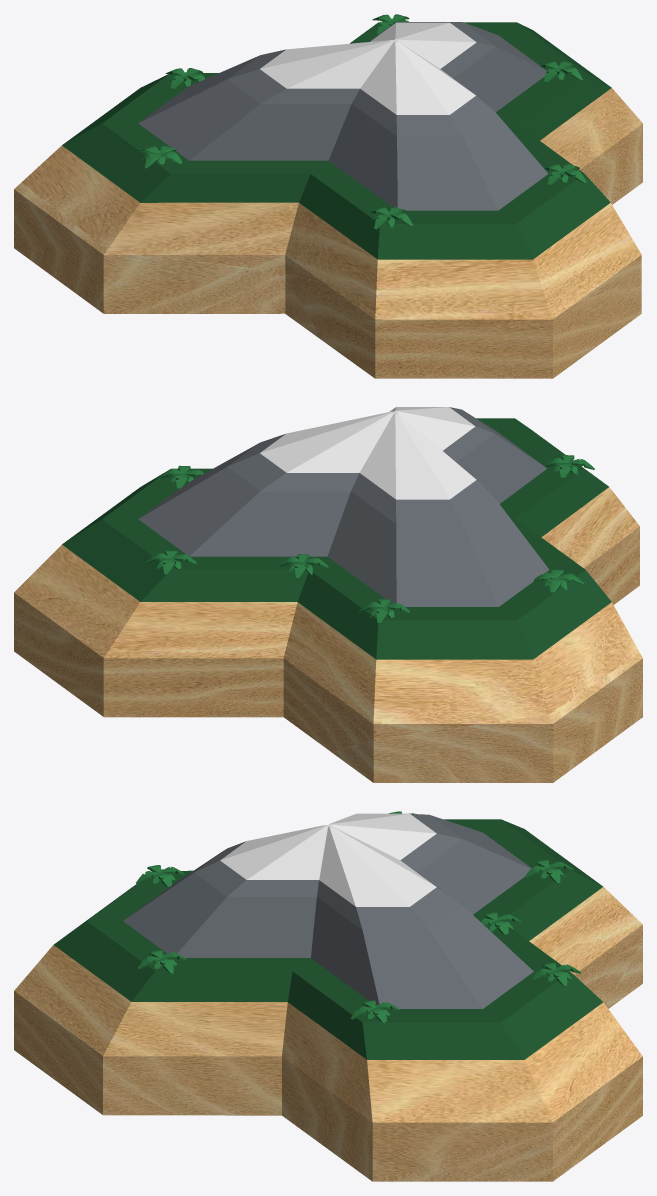
File: Big island.glb
The picture shows the model from 3 angles, top to bottom: view 1: azimuth 30°, elevation 25°; view 2: azimuth 150°, elevation 25°; view 3: azimuth 270°, elevation 25°; orthographic projection.
Parts seen in each view (by area): view 1: Cylinder.007; view 2: Cylinder.007; view 3: Cylinder.007.
Boxes of the visible parts, x1=… form: Cylinder.007: x1=14, y1=14, x2=642, y2=378; Cylinder.007: x1=14, y1=407, x2=642, y2=782; Cylinder.007: x1=14, y1=811, x2=642, y2=1181.
Bounding box in the file's own units: 15.72 × 6.22 × 15.83.
Materials: 5 (1 with a texture image).
